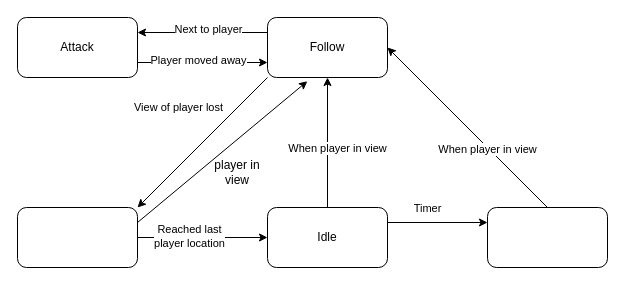
Some shapes in this 625 by 285 pixel diagram are drawn without their labels. Here are the shapes that lost their labels. From the top down, the centre of each, then its label:
the point at 77,237: Search
the point at 547,237: Wander
